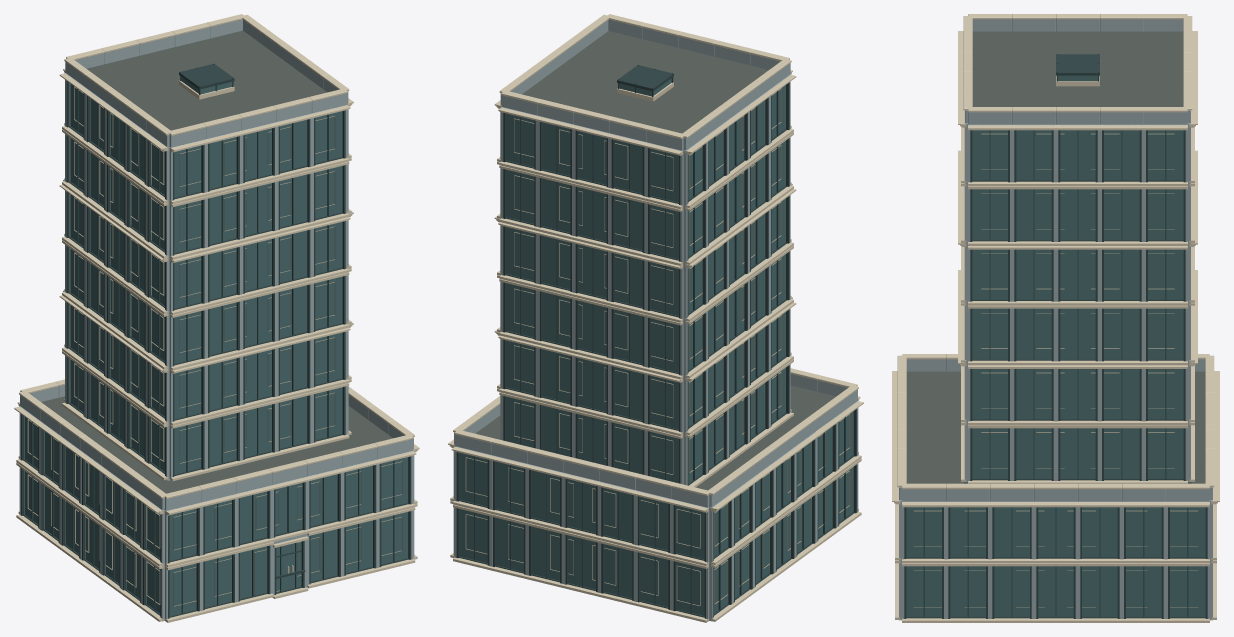
The model's file is setback-tower.glb.
3 renders of one model, left to right at view 1: azimuth 30°, elevation 25°; view 2: azimuth 150°, elevation 25°; view 3: azimuth 270°, elevation 25°, orthographic. The views are drawn at different scales.
Parts seen in each view (by area): view 1: Roof tower.001, Foundation.037, Roof main.019, main/north/0/9286/glass.002, tower/north/4/1000/glass, tower/north/6/1000/glass, tower/north/2/1000/glass.001, tower/north/5/1000/glass, tower/north/3/1000/glass, tower/north/7/1000/glass, main/north/1/9286/glass.002, tower/north/4/9000/glass (+57 smaller); view 2: Roof tower.001, Foundation.037, Roof main.019, main/south/0/2143/glass.003, main/south/0/6429/glass.003, tower/south/6/5000/glass, main/south/0/5000/glass.012, tower/south/6/9000/glass, tower/south/4/7000/glass, tower/south/6/7000/glass, main/south/0/3571/glass.003, tower/south/4/9000/glass (+55 smaller); view 3: Roof tower.001, Roof main.019, Foundation.037, tower/east/4/3000/glass, tower/east/4/5000/glass, tower/east/4/7000/glass, tower/east/4/9000/glass, tower/east/4/1000/glass, main/east/0/714/glass.001, main/east/0/2143/glass, main/east/0/3571/glass, main/east/0/5000/glass.009 (+80 smaller).
Boxes of the visible parts, x1,y1,x2,y2 form: Roof tower.001: (87, 31, 326, 146); Foundation.037: (27, 86, 402, 606); Roof main.019: (41, 396, 392, 509); main/north/0/9286/glass.002: (381, 512, 408, 564); tower/north/4/1000/glass: (174, 311, 201, 363); tower/north/6/1000/glass: (174, 200, 201, 252); tower/north/2/1000/glass.001: (174, 422, 201, 474); tower/north/5/1000/glass: (174, 256, 201, 308); tower/north/3/1000/glass: (174, 367, 201, 418); tower/north/7/1000/glass: (174, 145, 201, 197); main/north/1/9286/glass.002: (381, 457, 408, 508); tower/north/4/9000/glass: (315, 276, 342, 329); Roof tower.001: (522, 31, 768, 150); Foundation.037: (465, 88, 850, 605); Roof main.019: (475, 385, 835, 507); main/south/0/2143/glass.003: (640, 553, 668, 606); main/south/0/6429/glass.003: (532, 526, 559, 580); tower/south/6/5000/glass: (578, 187, 606, 241); main/south/0/5000/glass.012: (568, 535, 595, 589); tower/south/6/9000/glass: (506, 169, 534, 223); tower/south/4/7000/glass: (542, 292, 570, 345); tower/south/6/7000/glass: (542, 178, 570, 232); main/south/0/3571/glass.003: (604, 544, 632, 598); tower/south/4/9000/glass: (506, 283, 534, 337); Roof tower.001: (972, 32, 1183, 106); Roof main.019: (906, 371, 1205, 483); Foundation.037: (914, 133, 1197, 607); tower/east/4/3000/glass: (1104, 308, 1139, 359); tower/east/4/5000/glass: (1060, 308, 1095, 359); tower/east/4/7000/glass: (1016, 308, 1051, 359); tower/east/4/9000/glass: (972, 308, 1007, 359); tower/east/4/1000/glass: (1148, 308, 1183, 359); main/east/0/714/glass.001: (1170, 566, 1205, 616); main/east/0/2143/glass: (1126, 566, 1161, 616); main/east/0/3571/glass: (1082, 566, 1117, 616); main/east/0/5000/glass.009: (1038, 566, 1073, 616).
Bounding box in the file's own units: 14.92 × 24.87 × 14.92.
